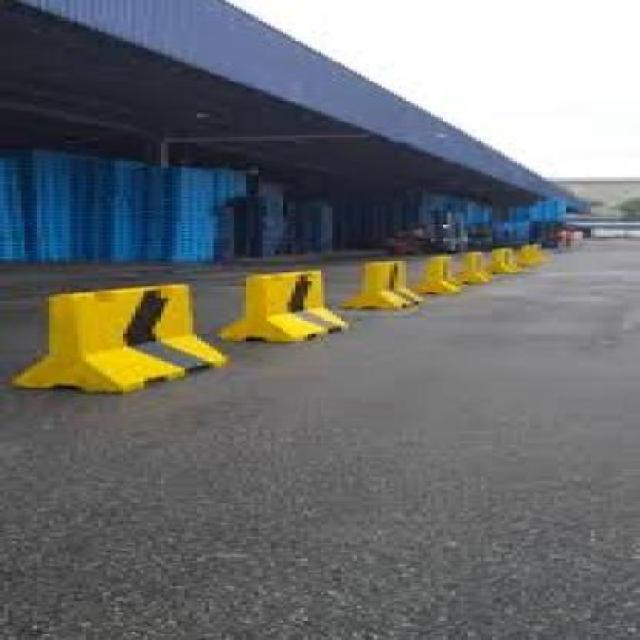fallen_object: (0, 263, 223, 409), (207, 259, 337, 364), (356, 245, 420, 321), (480, 242, 563, 297), (412, 245, 457, 315), (457, 236, 490, 295)
